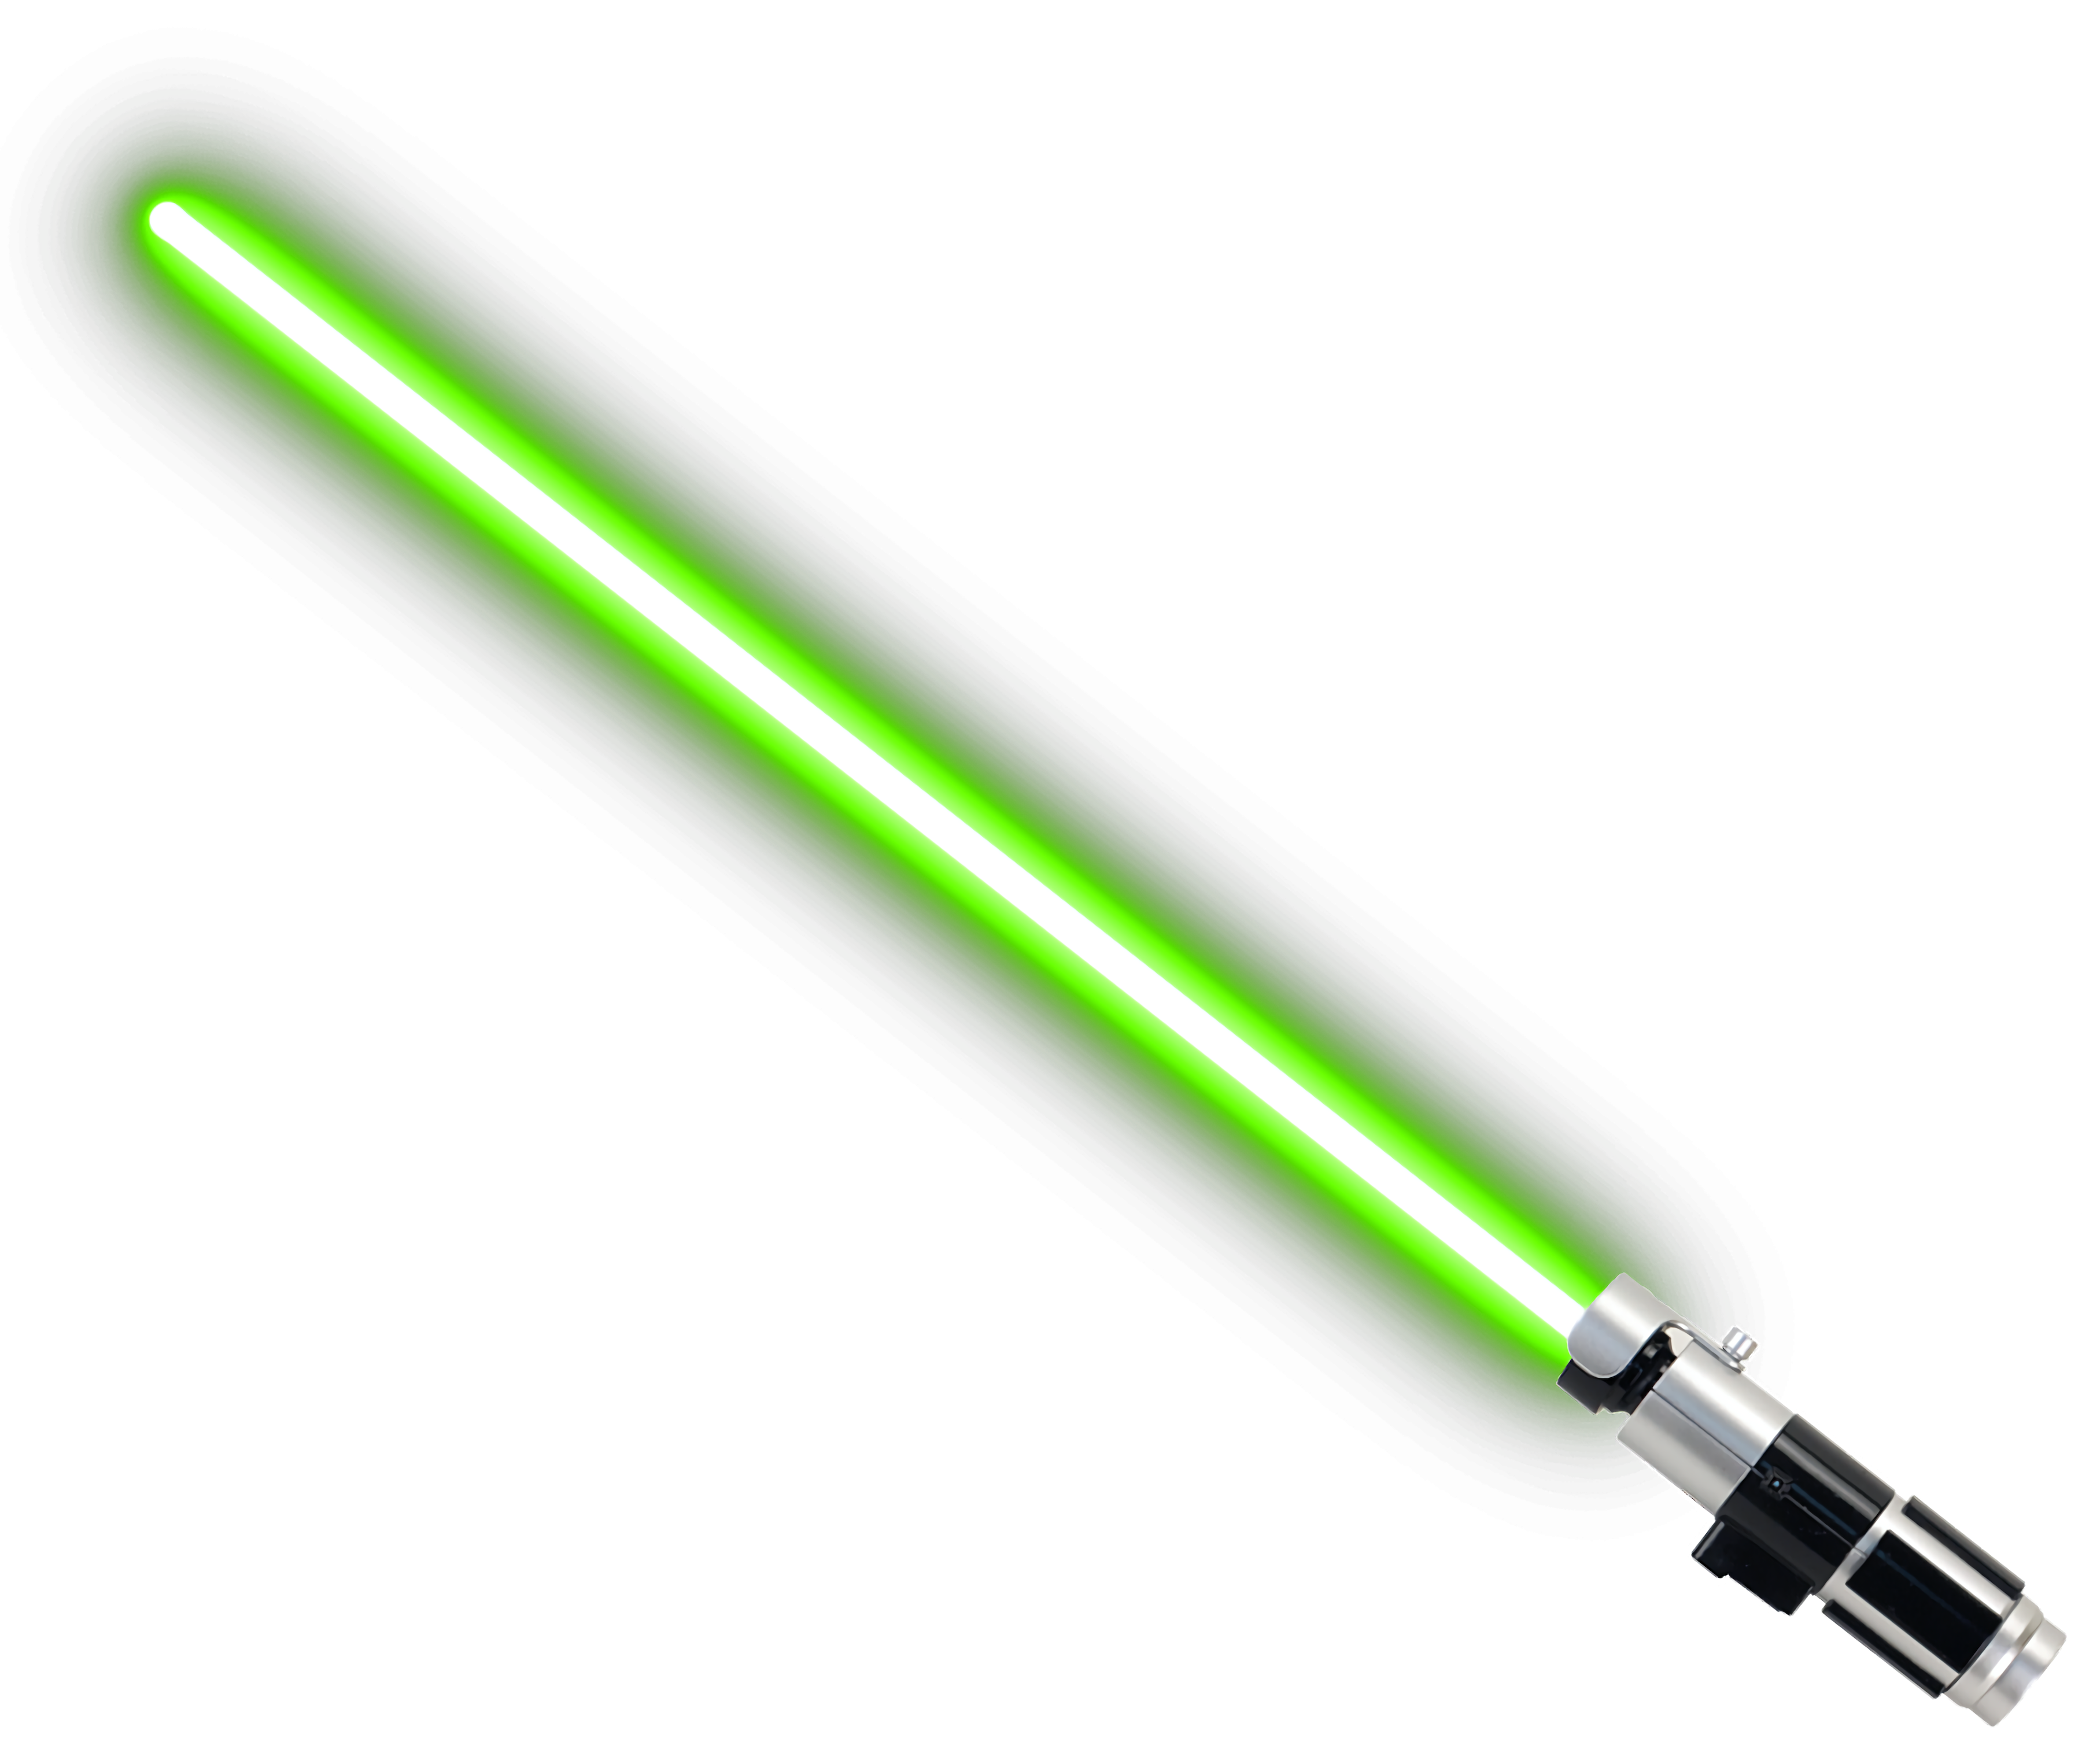lightsaber: (19, 47, 2043, 1640)
